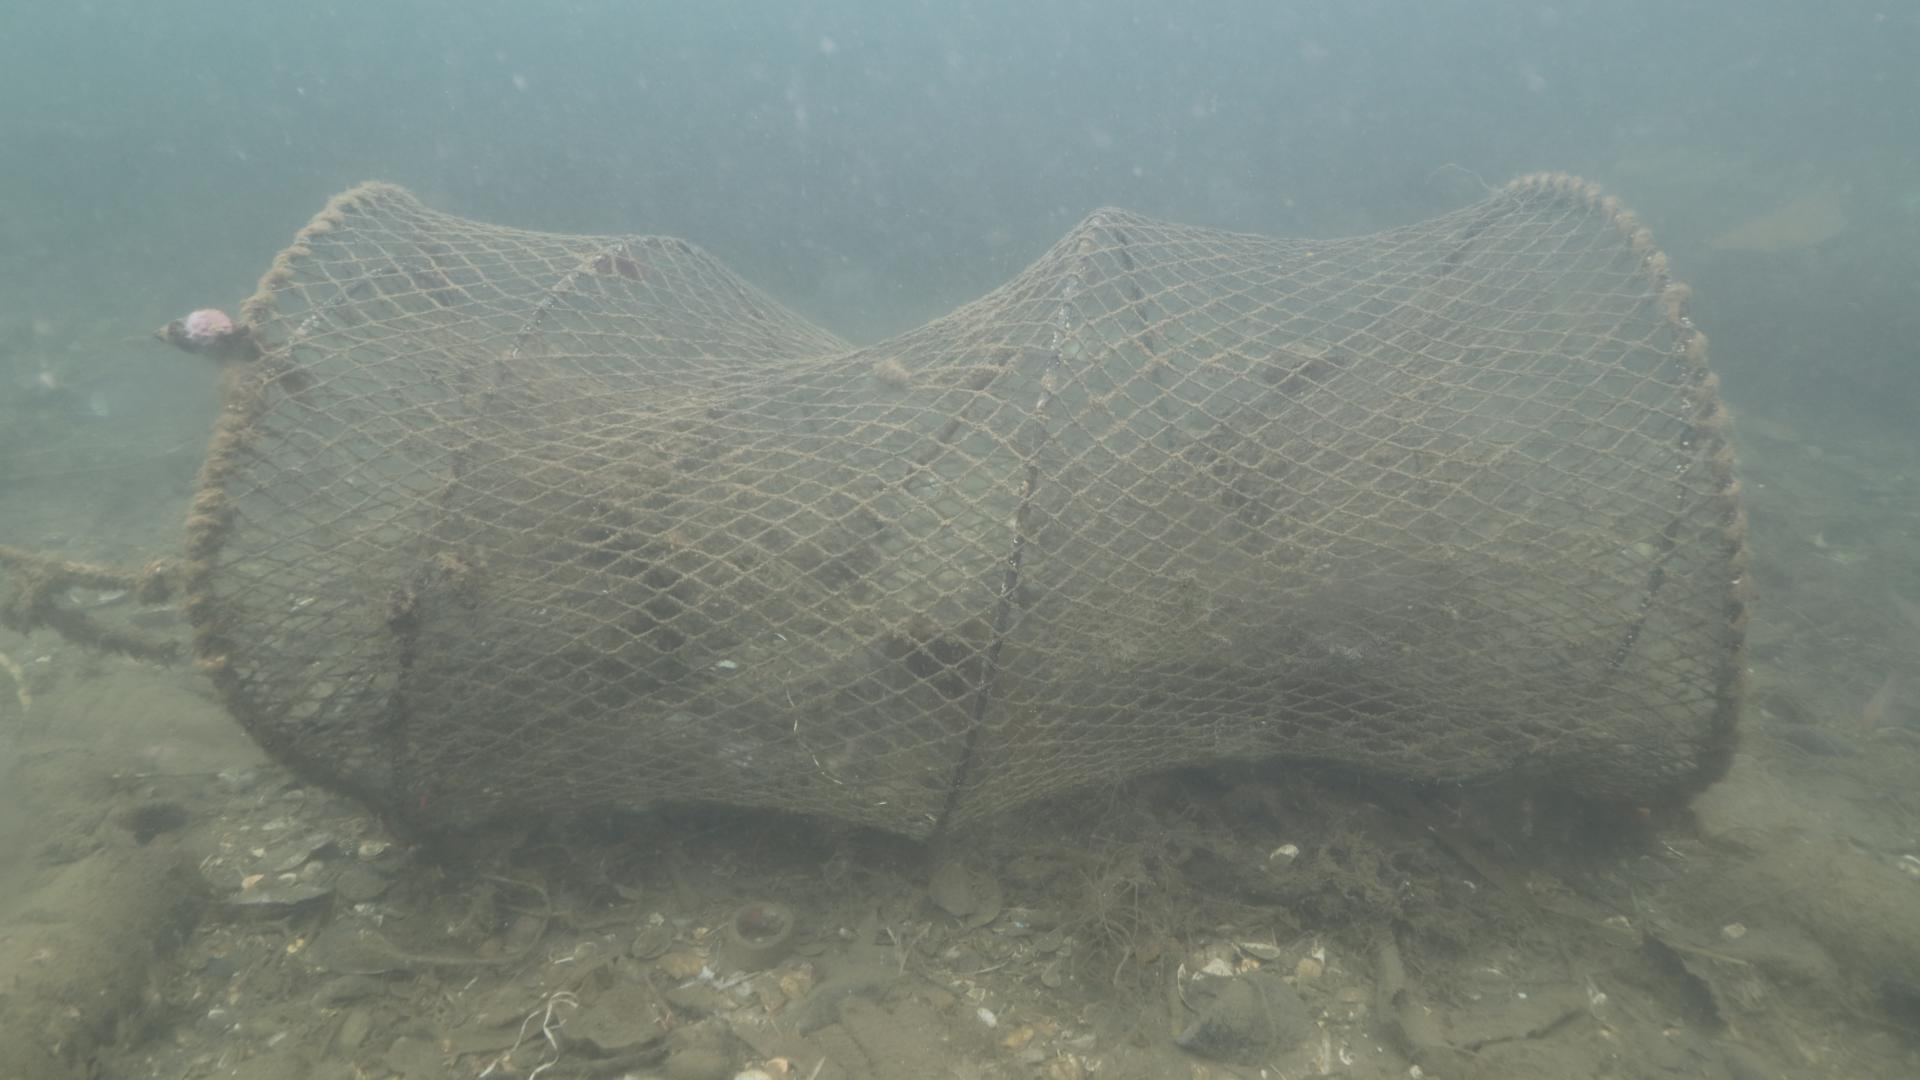spring fish trap: (179, 167, 1753, 851)
